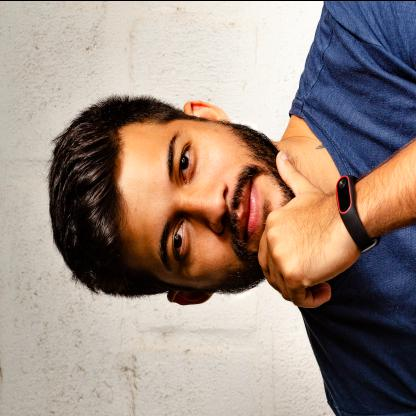Eye: (178, 142, 194, 184), (172, 218, 186, 262)
Mouth: (240, 177, 258, 246)
Nose: (182, 182, 228, 232)
